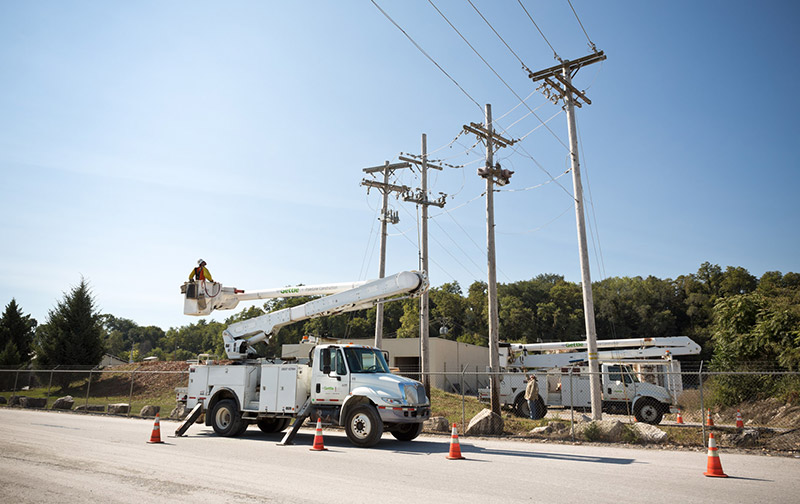utility_pole: (519, 38, 612, 127), (457, 97, 521, 202), (397, 128, 448, 220), (358, 144, 413, 223)
